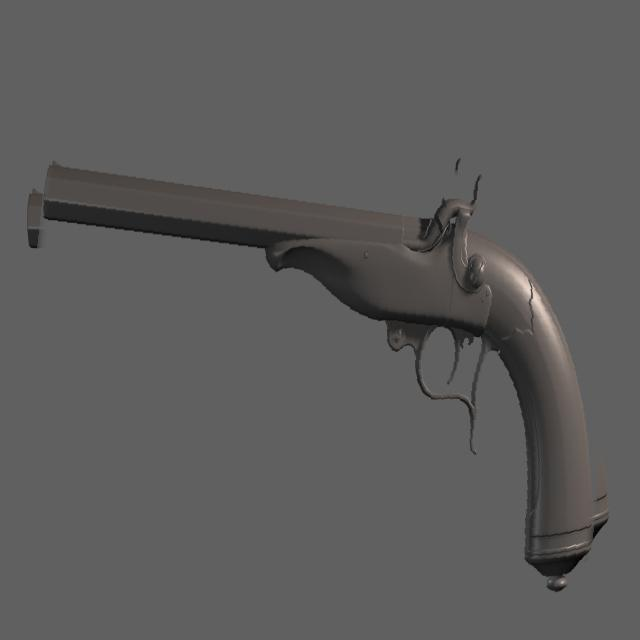gun: (16, 141, 619, 586)
